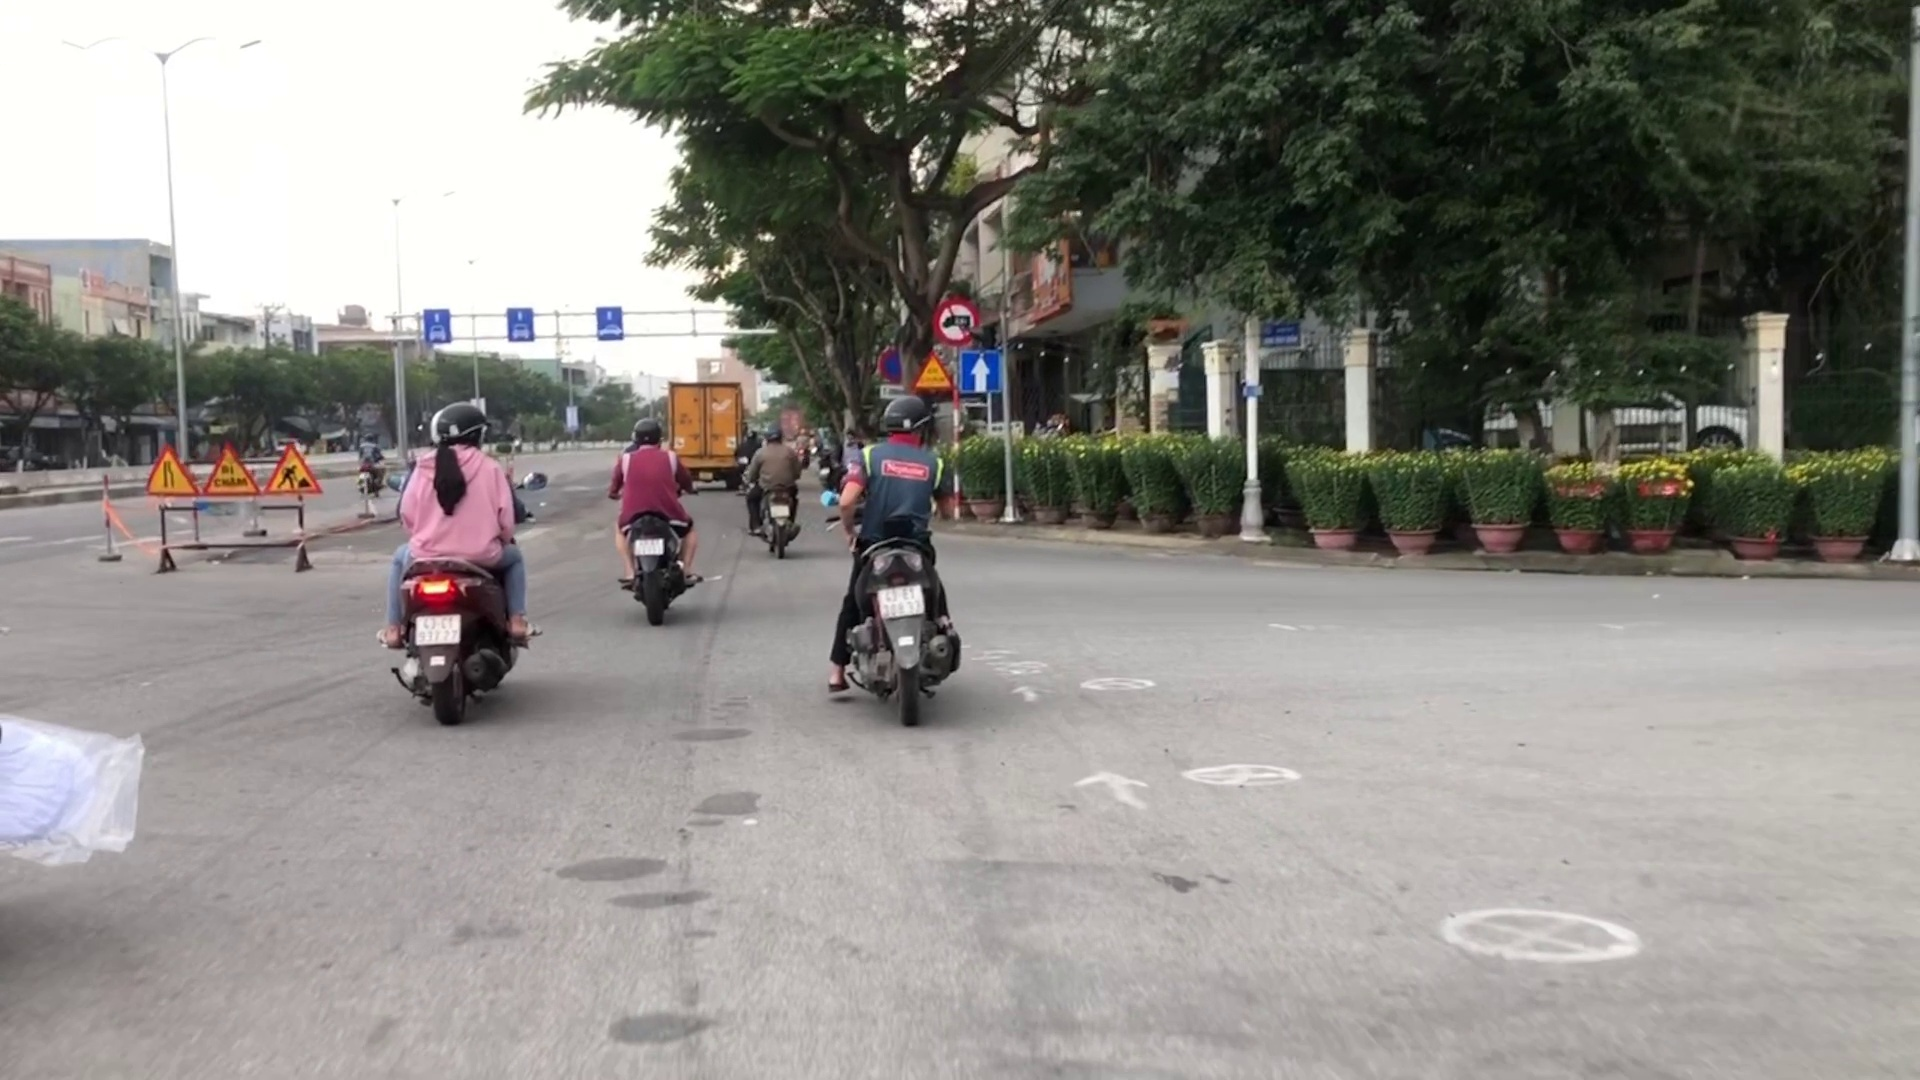Bien khac: (953, 352, 1000, 386), (938, 298, 972, 342), (913, 355, 948, 388)
